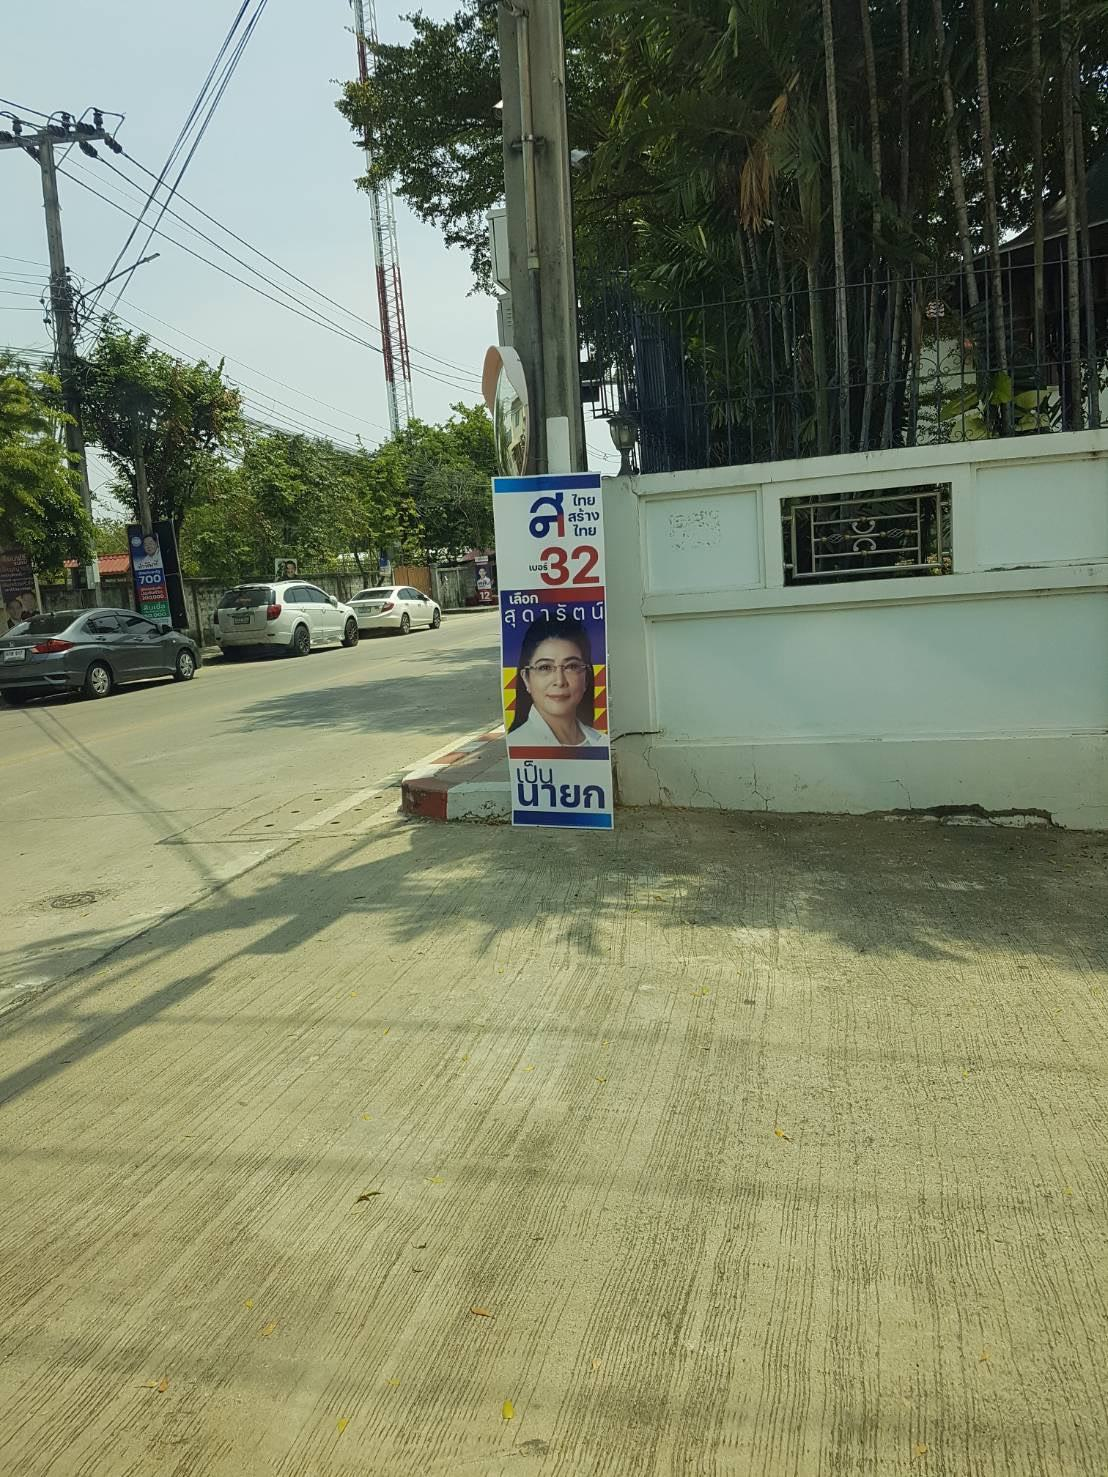Banner: (493, 468, 633, 843)
